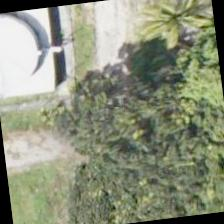Kelapa_Sawit: (128, 0, 219, 77)
